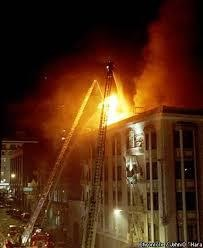fire: (76, 80, 133, 127)
